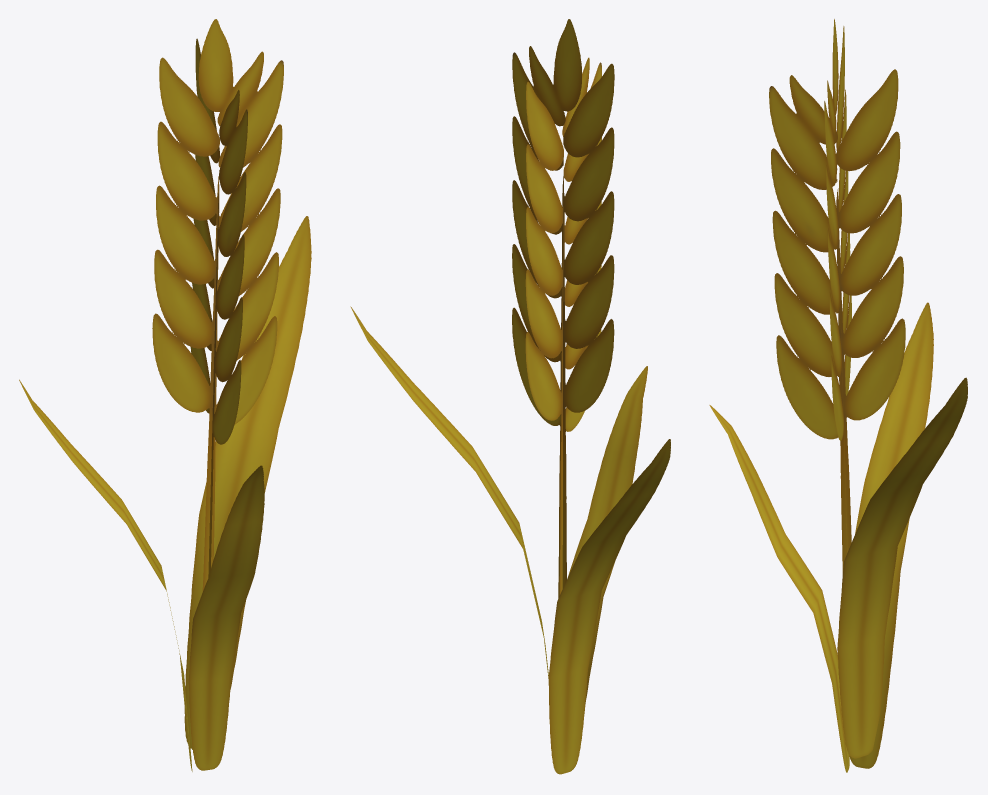
Rendered from abc.glb.
3 views of the same model, side by side, from view 1: azimuth 30°, elevation 25°; view 2: azimuth 150°, elevation 25°; view 3: azimuth 270°, elevation 25° (orthographic). The views are drawn at different scales.
Visible parts, largest first — view 1: Wheat_single_Plants_0; view 2: Wheat_single_Plants_0; view 3: Wheat_single_Plants_0.
Boxes of the visible parts, <box> form: Wheat_single_Plants_0: <box>19,19,311,771</box>; Wheat_single_Plants_0: <box>350,19,670,774</box>; Wheat_single_Plants_0: <box>709,19,967,772</box>.
Size of the model in its own units: 0.5746 by 1.33 by 0.4286.
Materials: 1 (1 with a texture image).
